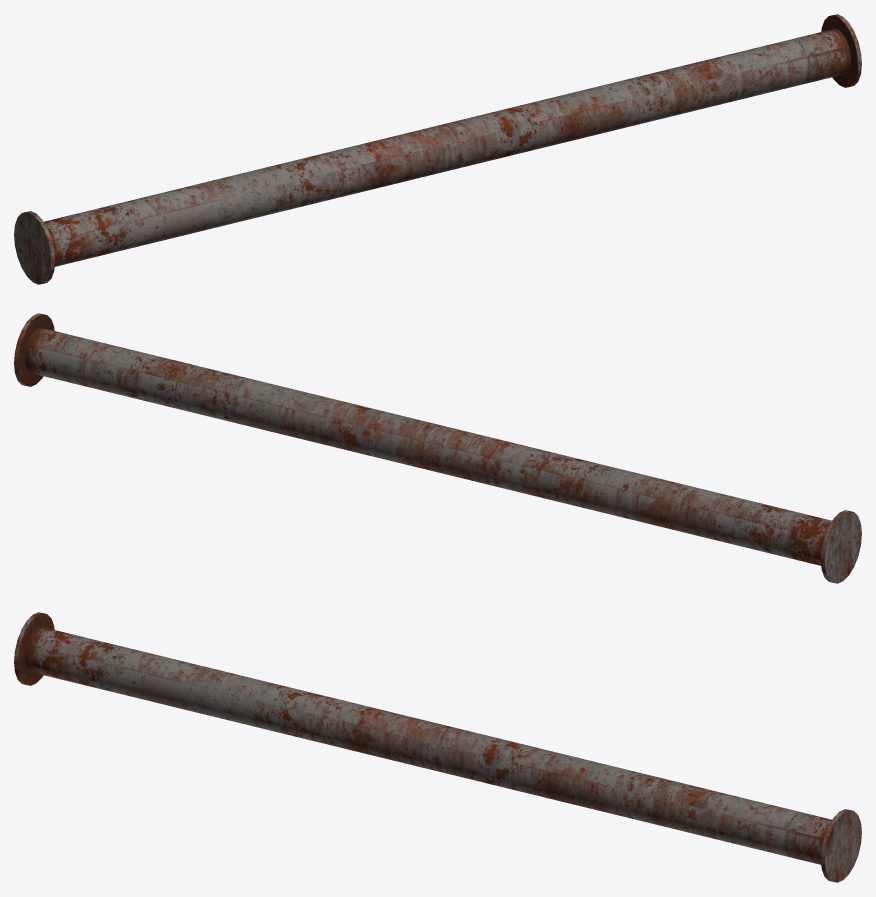
The model's file is PipeTexture.gltf.
The picture shows the model from 3 angles, top to bottom: view 1: azimuth 30°, elevation 25°; view 2: azimuth 150°, elevation 25°; view 3: azimuth 330°, elevation 25°; orthographic projection.
Parts seen in each view (by area): view 1: SM_Pipe; view 2: SM_Pipe; view 3: SM_Pipe.
Boxes of the visible parts, bbox=[...] form: SM_Pipe: bbox=[14, 14, 861, 284]; SM_Pipe: bbox=[14, 313, 861, 583]; SM_Pipe: bbox=[14, 612, 861, 882].
Bounding box in the file's own units: 2.06 × 0.1642 × 0.1642.
1 material, 1 textured.
